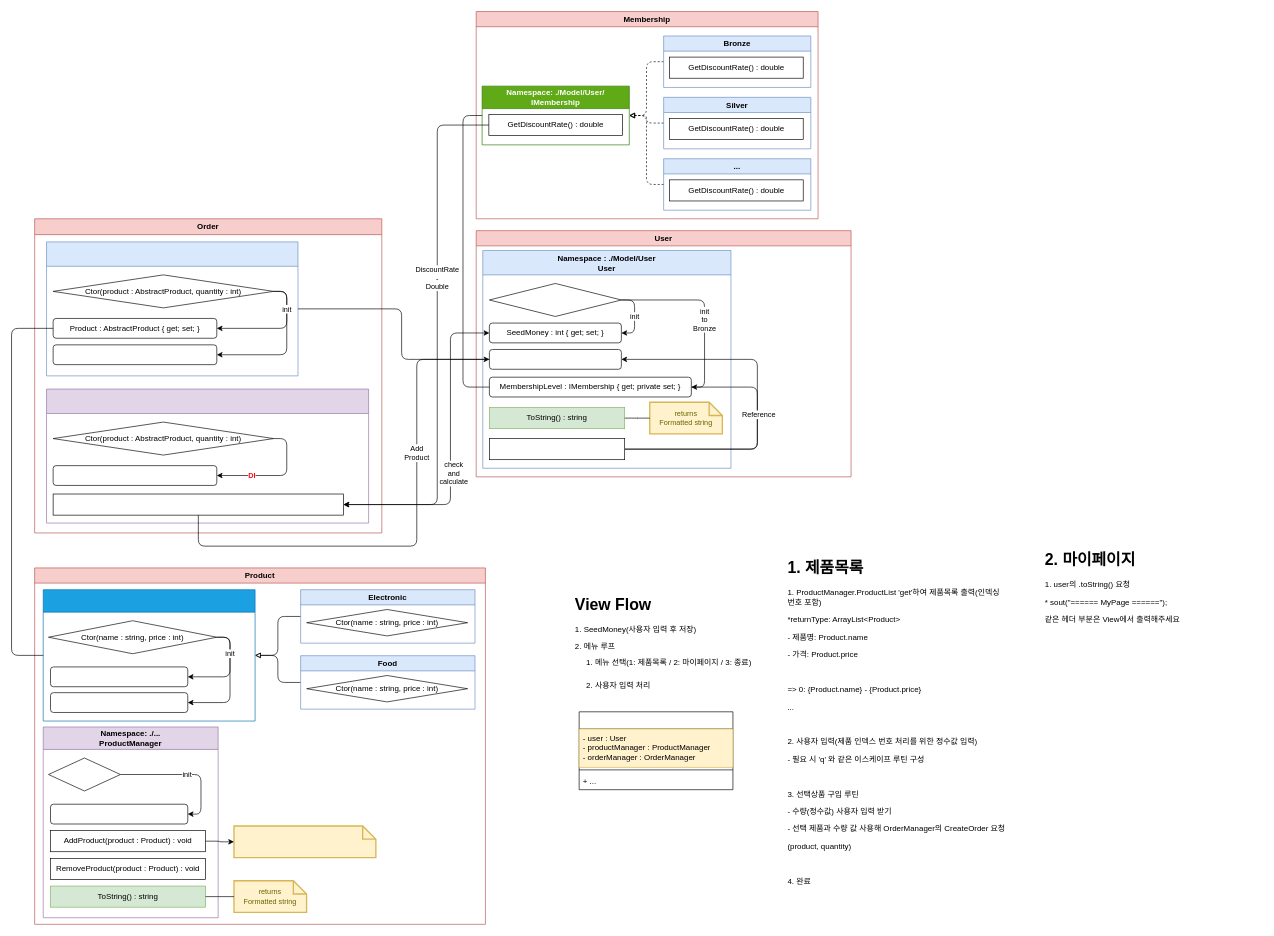
The diagram is 1274 pixels wide and 936 high, and some of its shapes have lost their labels. Here are the shapes that lost their labels. From the top down, the box of each, then its label:
(46, 241, 298, 376): Namespace : ./Model/Order Order
(489, 283, 621, 316): Ctor(seedMoney : int)
(52, 344, 217, 365): Quantity : int { get; set; }
(489, 349, 621, 369): OrderList : List<Order> { get; }
(46, 388, 369, 523): Namespace : ./... OrderManager
(489, 438, 625, 460): UpdateMembership() : void
(52, 465, 217, 485): CurrentUser : User { get; }
(52, 493, 344, 515): CreateOrder(product : AbstractProduct, quantity : int) : AbstractProduct
(43, 589, 255, 721): Namespace: ./Model/Product AbstractProduct
(50, 666, 188, 687): name : string { get; set; }
(50, 692, 188, 712): price : int { get; set; }
(578, 711, 733, 790): View
(48, 757, 120, 791): Ctor()
(50, 804, 188, 824): ProductList : List<Product> { get; }
(233, 825, 376, 858): create and put(Sample Products)
